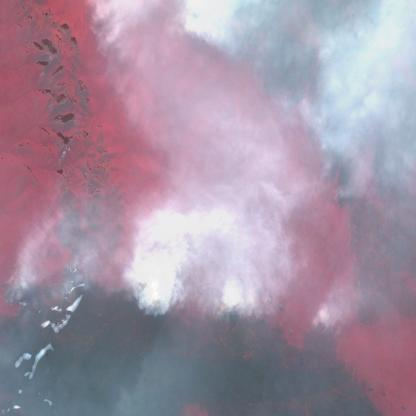fire: (0, 269, 29, 316), (301, 308, 346, 338)
